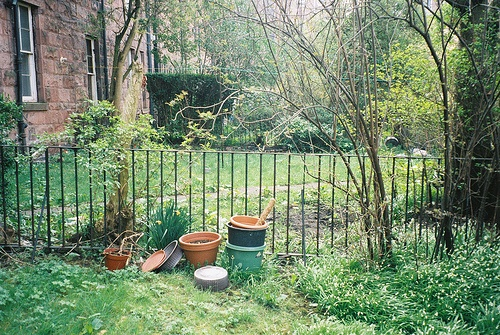rubble: (89, 211, 290, 298)
